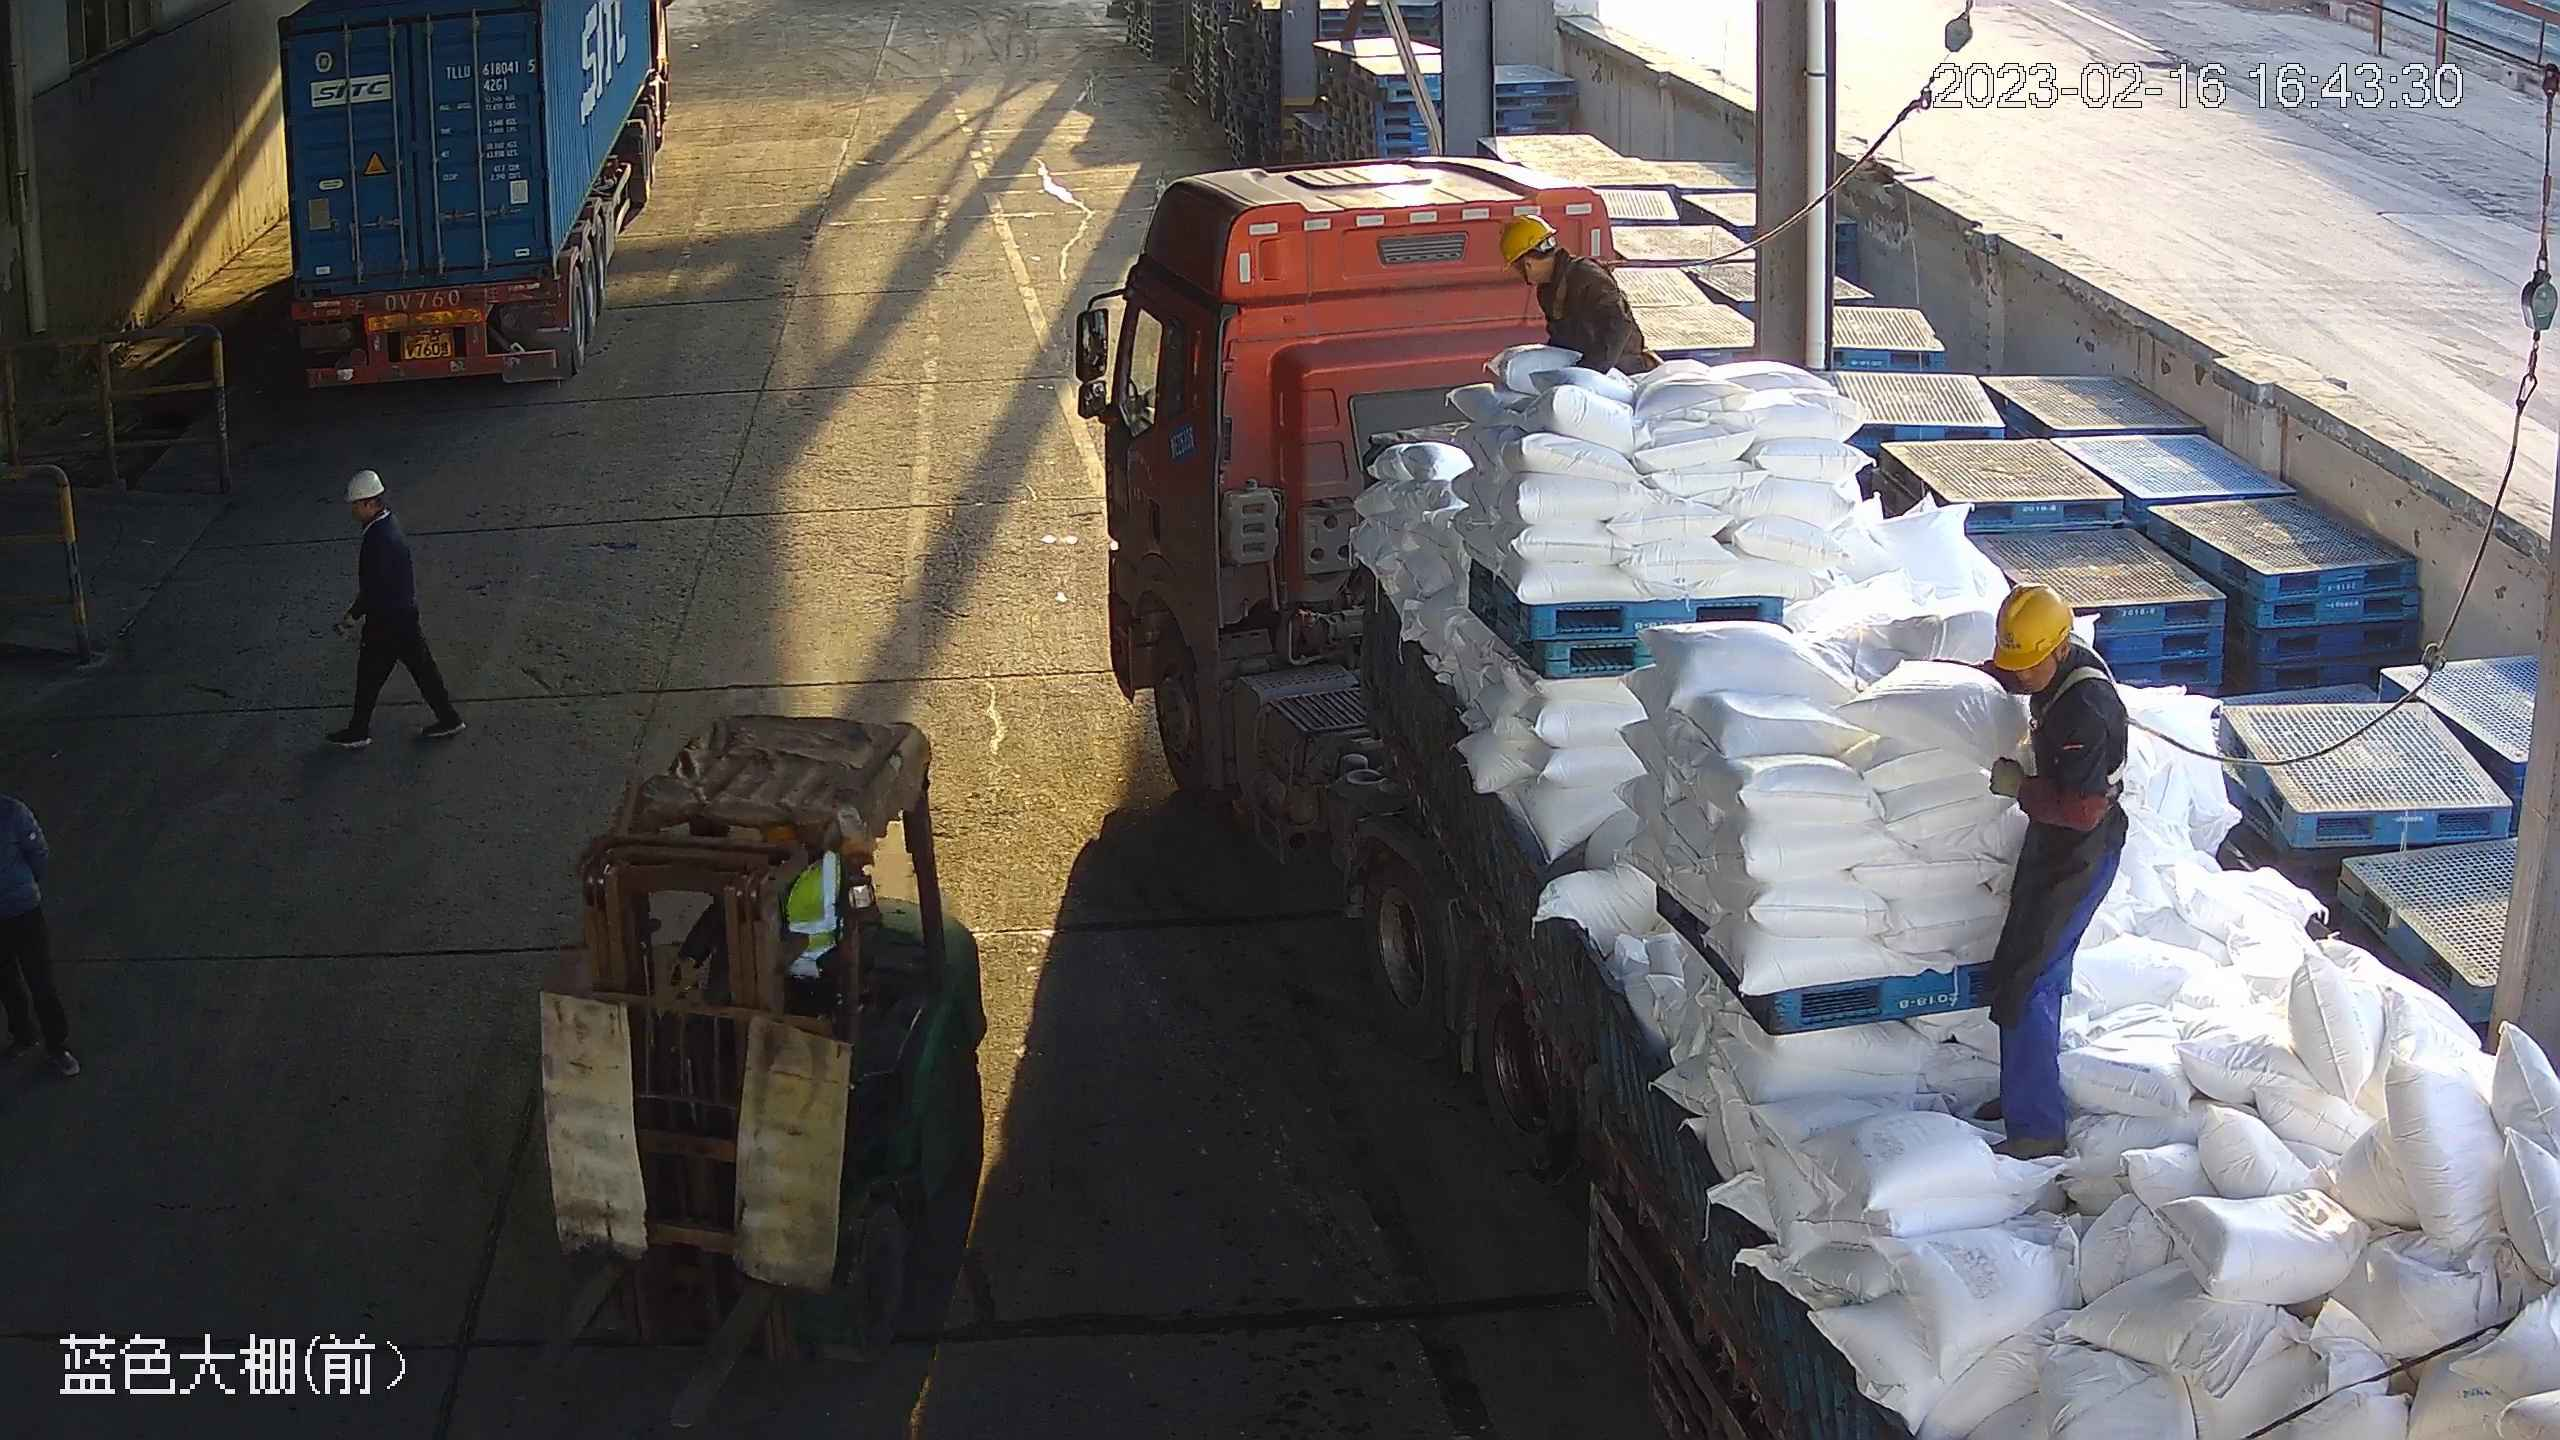belt: (2073, 622, 2151, 769), (1541, 256, 1636, 331)
head: (1979, 583, 2134, 754), (1503, 217, 1629, 335), (337, 467, 406, 579)
helmet: (1988, 578, 2076, 669), (1500, 211, 1556, 269), (340, 472, 388, 506)
people: (1974, 581, 2133, 1159), (315, 466, 464, 745)
truck: (1071, 150, 2560, 1440), (278, 1, 679, 394)
